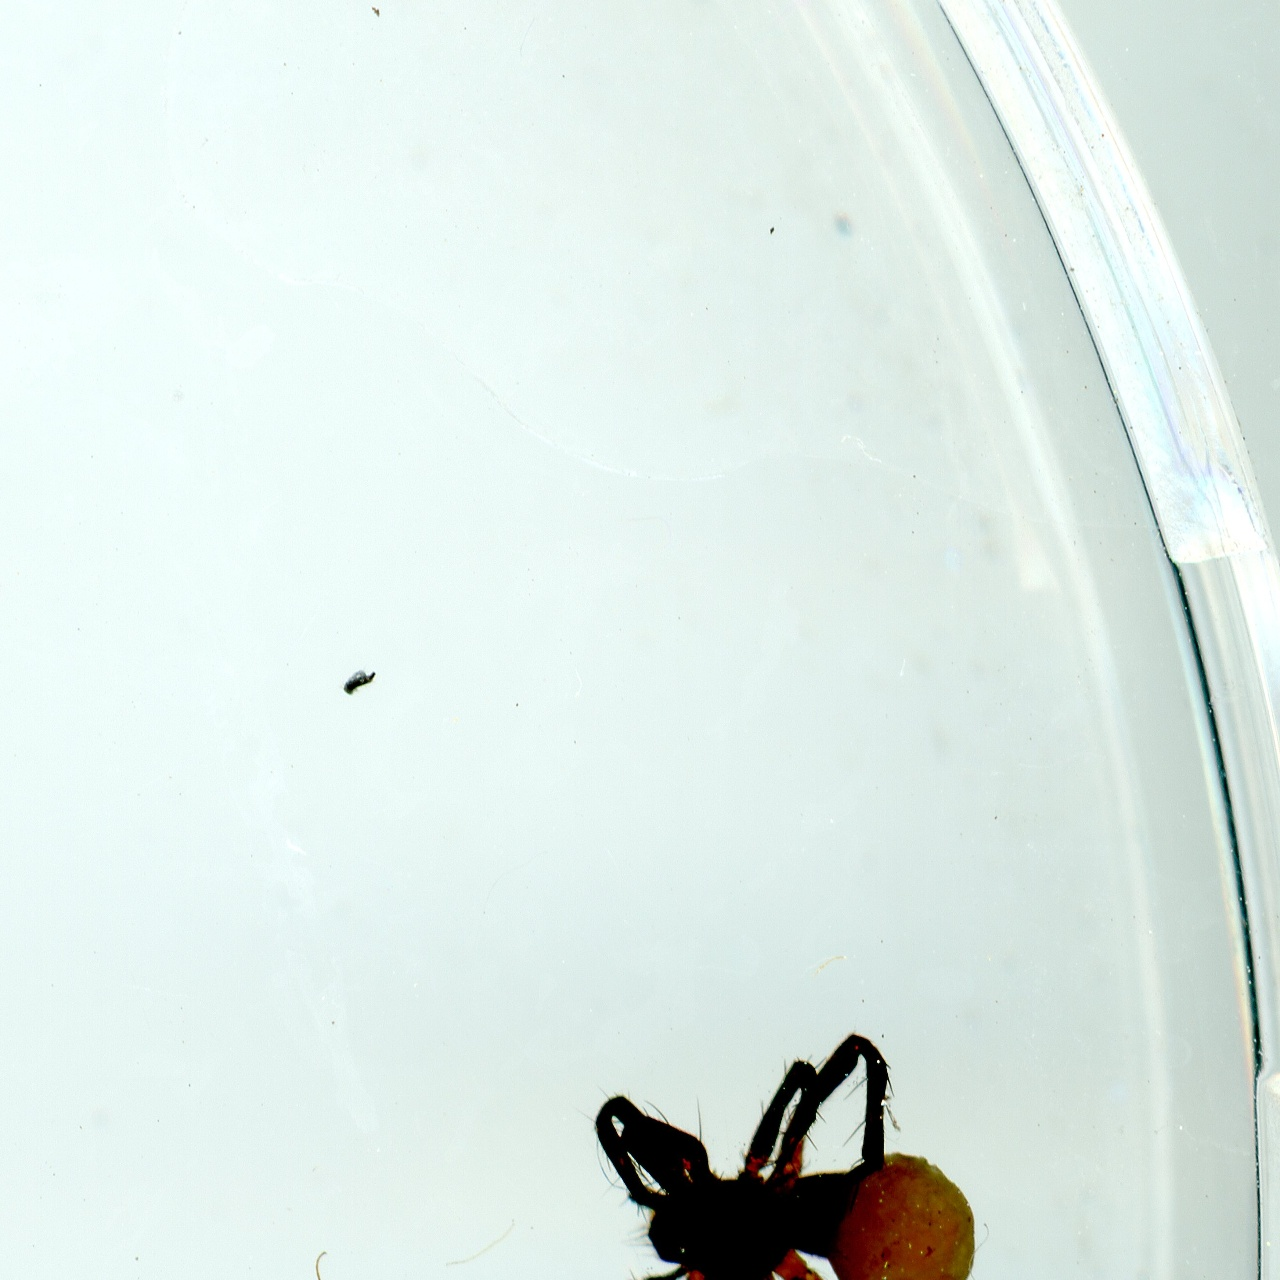arthropod: (573, 1011, 982, 1280), (281, 1243, 449, 1280)
